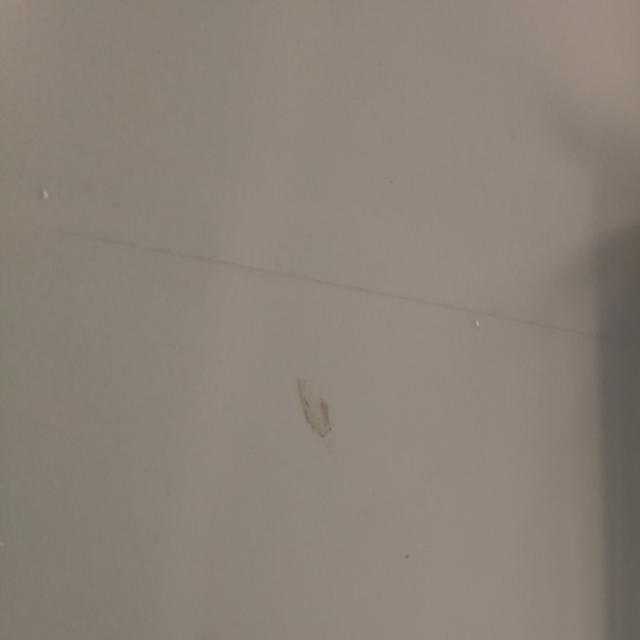fluorescent tube: (626, 185, 640, 640)
